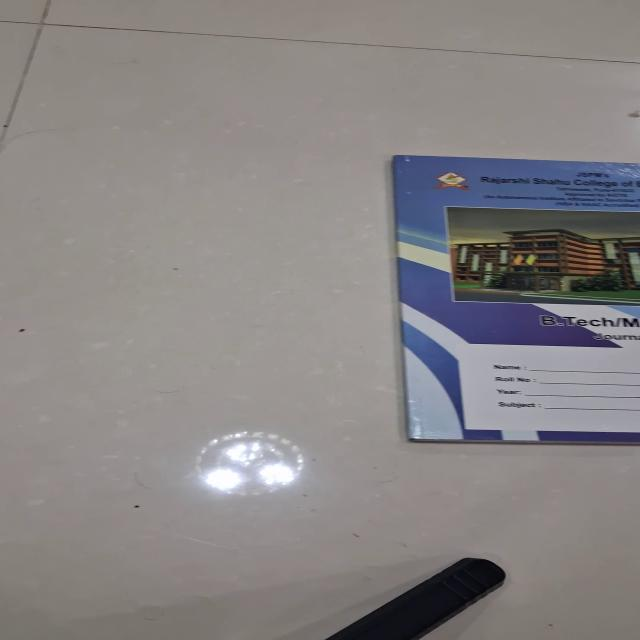paper: (392, 154, 639, 444)
